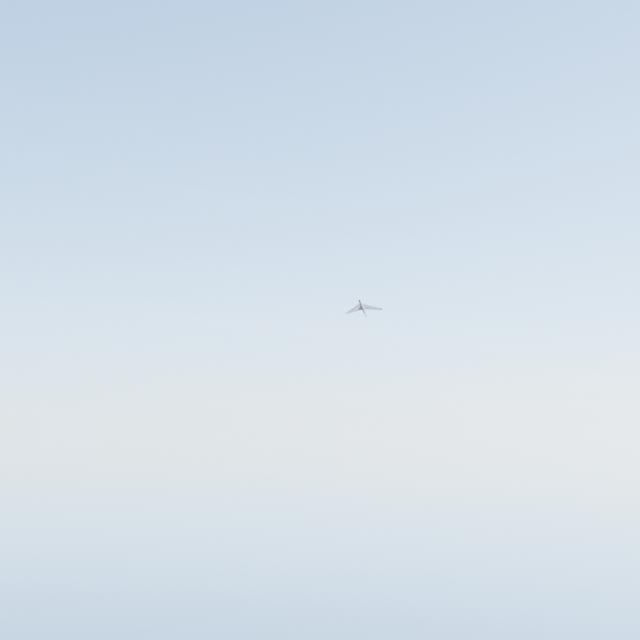Airaplan: (346, 299, 383, 316)
